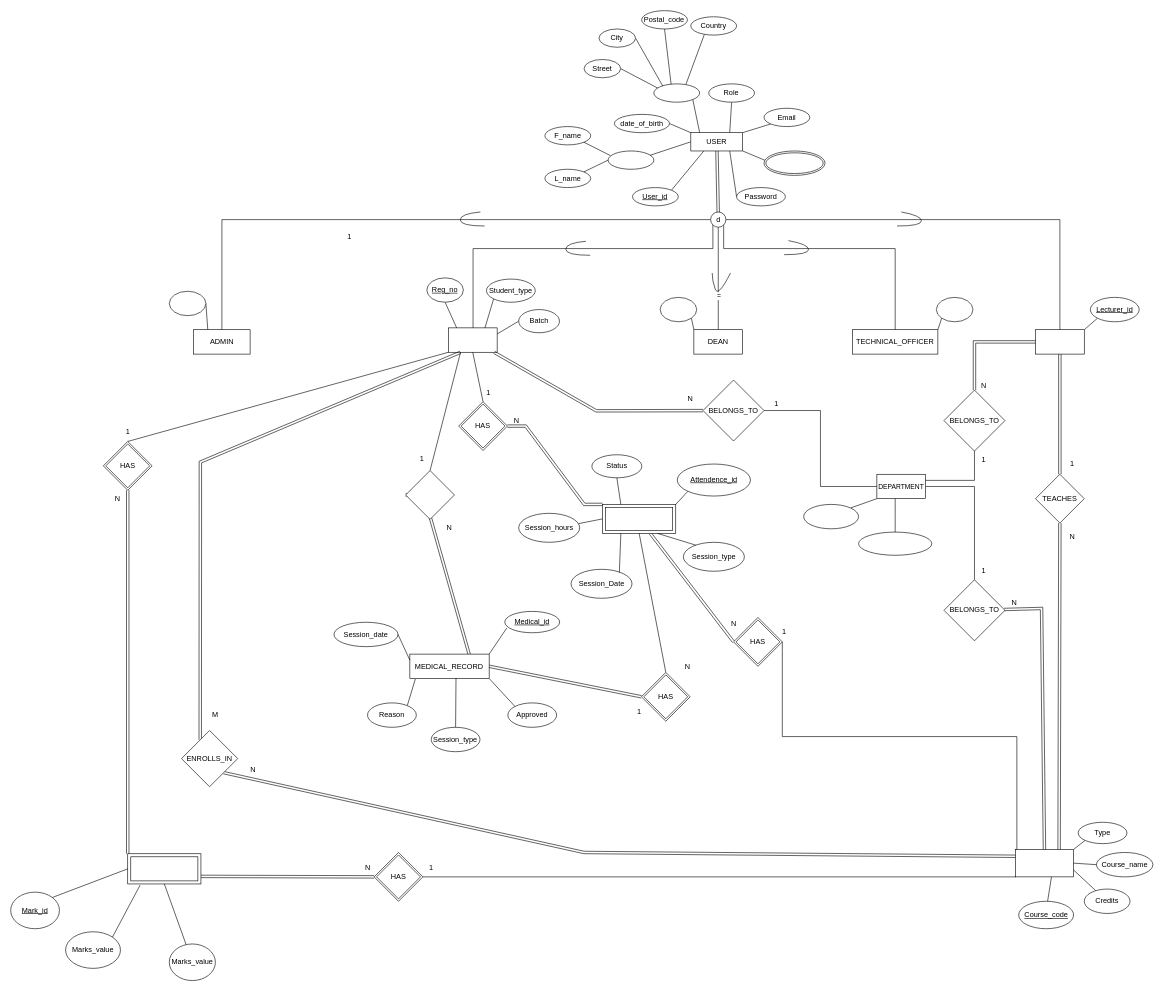
This 1164x991 diagram has some shape labels left out. Here are the shapes that lost their labels. From the top down, the centre of each, then its label:
At (x=676, y=92): "Address".
At (x=630, y=159): "Name".
At (x=794, y=162): "Contact_no".
At (x=187, y=303): "Admin_id".
At (x=678, y=309): "Dean_id".
At (x=954, y=309): "TO_id".
At (x=472, y=339): "STUDENT".
At (x=1059, y=341): "LECTURER".
At (x=429, y=494): "SUBMITS".
At (x=639, y=518): "ATTENDENCE".
At (x=831, y=516): "Department_id".
At (x=895, y=543): "Department_name".
At (x=164, y=868): "MARK".
At (x=1044, y=863): "COURSE".
